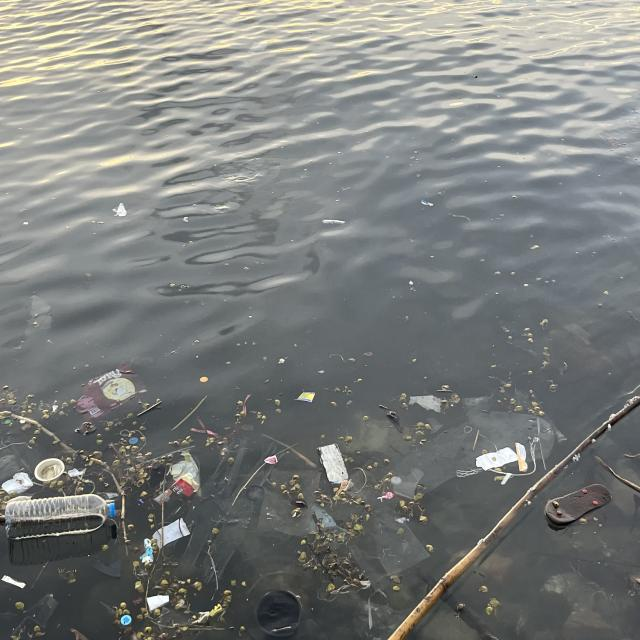plastic: (5, 494, 115, 541)
plastic bottle: (174, 436, 277, 584), (385, 408, 557, 495), (339, 503, 430, 591), (257, 468, 320, 534), (81, 364, 147, 425), (156, 448, 201, 506), (22, 296, 53, 352), (27, 592, 58, 630), (153, 518, 189, 549), (477, 446, 517, 471), (1, 471, 33, 498), (35, 457, 65, 483), (408, 394, 442, 413), (148, 594, 170, 612), (515, 442, 528, 470), (2, 574, 26, 588), (142, 538, 153, 565), (294, 390, 316, 402), (112, 202, 126, 216), (390, 475, 402, 484)
unknow: (546, 480, 613, 529), (191, 393, 250, 444), (252, 589, 304, 638), (318, 442, 350, 483), (309, 506, 336, 533), (93, 560, 124, 579)
